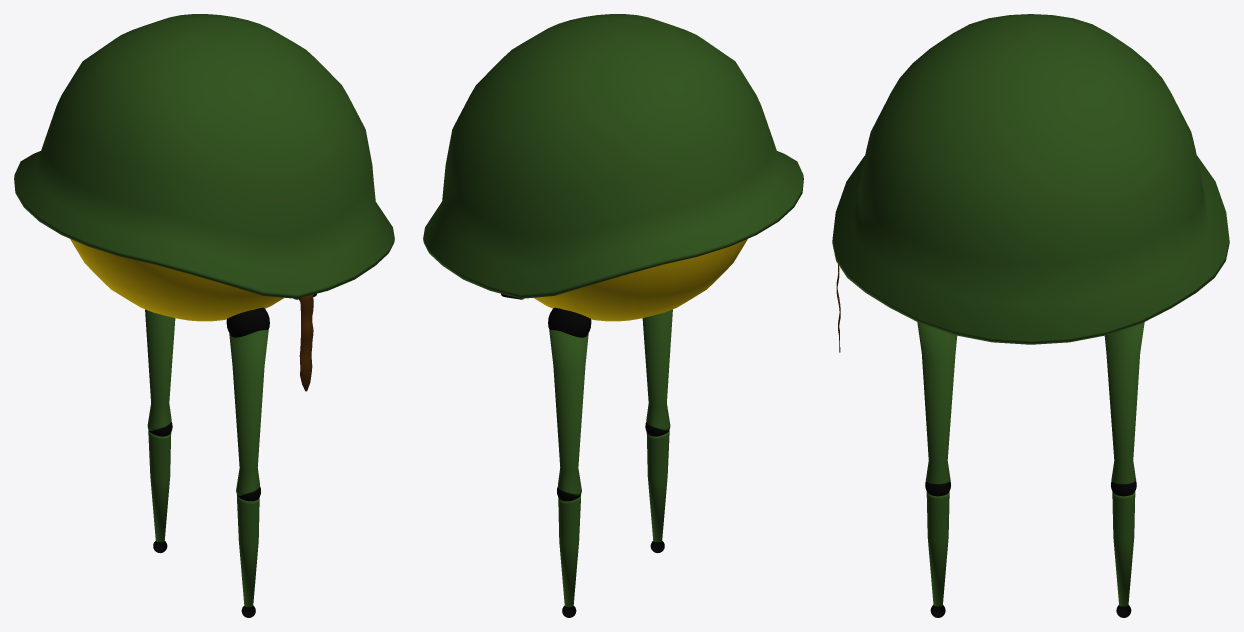
The picture shows the model from 3 angles, left to right: view 1: azimuth 30°, elevation 25°; view 2: azimuth 150°, elevation 25°; view 3: azimuth 270°, elevation 25°; orthographic projection. The views are drawn at different scales.
Visible parts, largest first — view 1: Sphere.004, corps, cuisse g, cuisse d, tibia d, tibia g, laniere g, h cuisse g; view 2: Sphere.004, corps, cuisse d, cuisse g, tibia g, tibia d, h cuisse d; view 3: Sphere.004, cuisse g, cuisse d, tibia g, tibia d.
Boxes of the visible parts, left/top/right/bottom form: Sphere.004: left=14, top=14, right=394, bottom=298; corps: left=70, top=239, right=284, bottom=321; cuisse g: left=229, top=330, right=268, bottom=495; cuisse d: left=145, top=309, right=175, bottom=430; tibia d: left=148, top=431, right=171, bottom=542; tibia g: left=237, top=495, right=259, bottom=607; laniere g: left=299, top=295, right=313, bottom=391; h cuisse g: left=226, top=307, right=269, bottom=337; Sphere.004: left=423, top=14, right=803, bottom=298; corps: left=533, top=239, right=747, bottom=321; cuisse d: left=549, top=330, right=588, bottom=495; cuisse g: left=642, top=309, right=672, bottom=430; tibia g: left=646, top=431, right=669, bottom=542; tibia d: left=558, top=495, right=580, bottom=607; h cuisse d: left=548, top=307, right=591, bottom=337; Sphere.004: left=832, top=14, right=1229, bottom=344; cuisse g: left=917, top=322, right=957, bottom=484; cuisse d: left=1104, top=322, right=1144, bottom=484; tibia g: left=926, top=491, right=949, bottom=606; tibia d: left=1112, top=491, right=1135, bottom=606.
Size of the model in its own units: 250 by 403 by 249.
